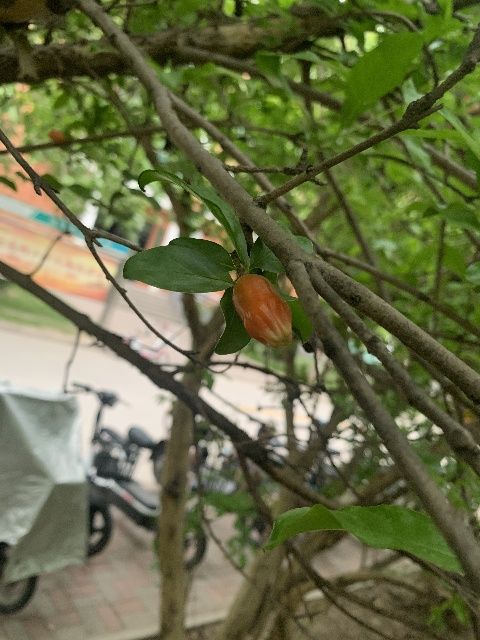bud: (232, 273, 293, 349)
